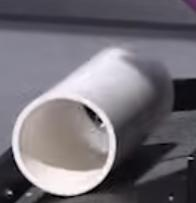coral: (11, 47, 173, 197)
